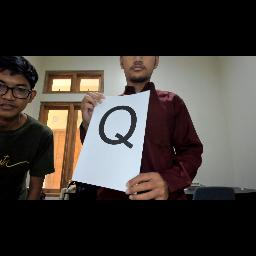q: (98, 104, 142, 152)
